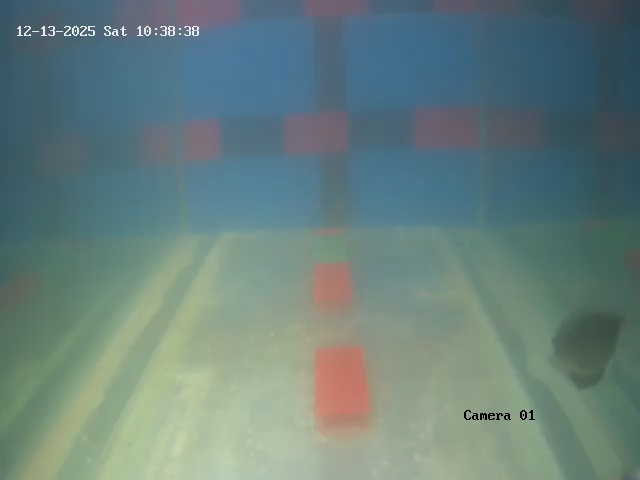fish: (552, 305, 621, 388)
